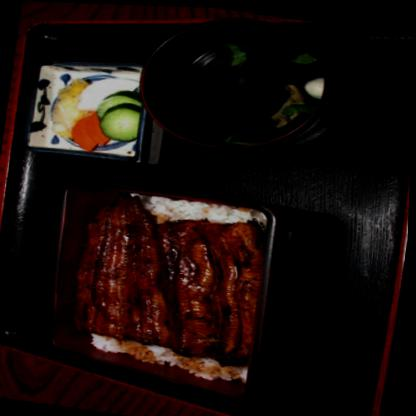eel: (66, 201, 268, 356)
